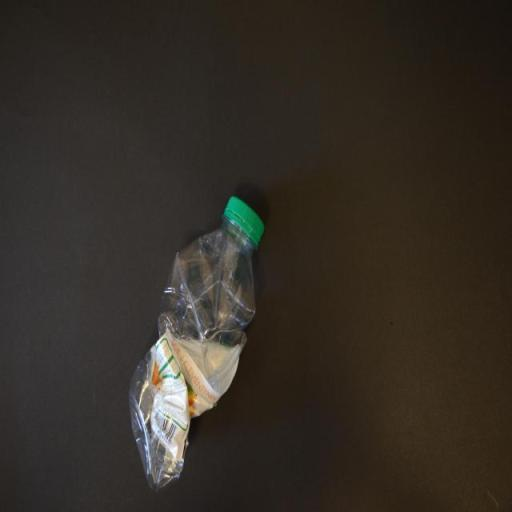plastic: (128, 195, 266, 492)
